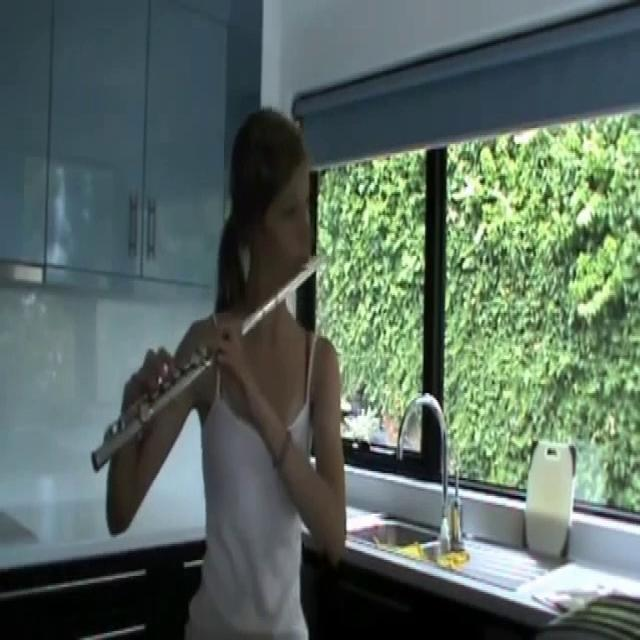Flute: (84, 235, 336, 480)
